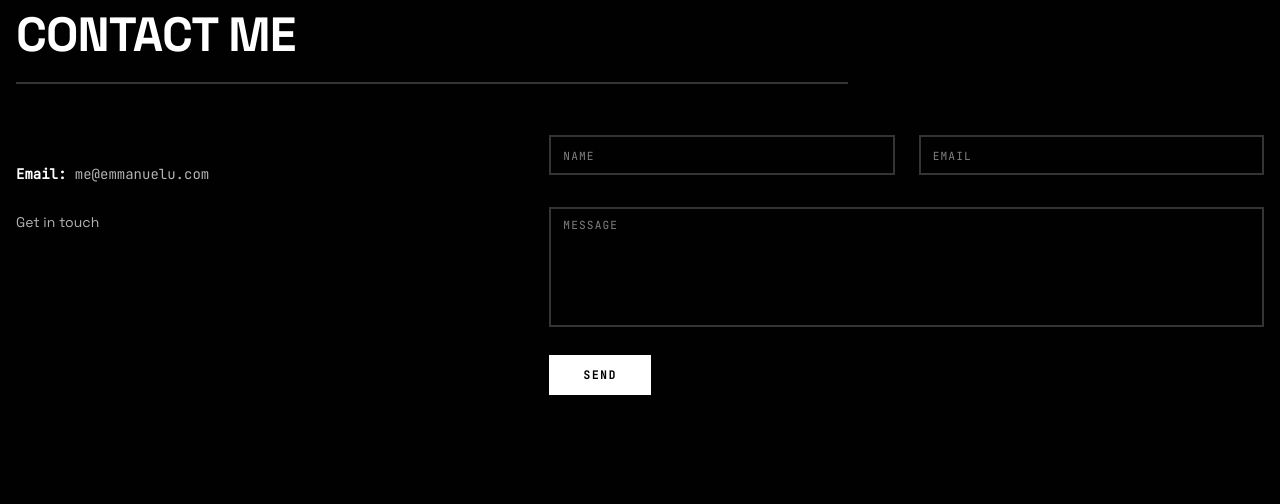
Contact form › shows success message after successful send
In the field with placeholder "NAME": (722, 155) left=549, top=135, right=895, bottom=175, type "John"
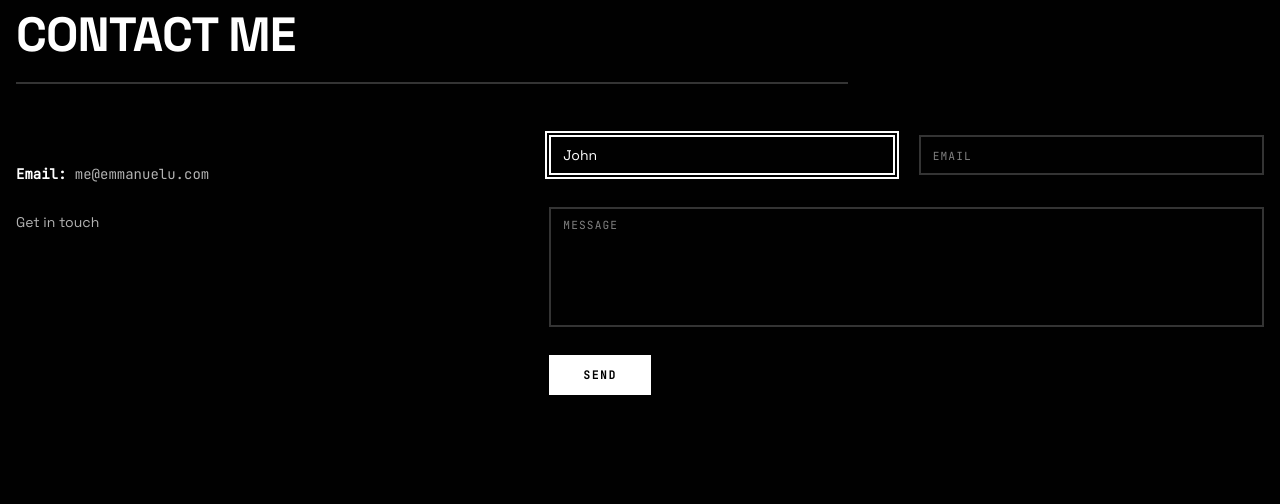
In the field with placeholder "EMAIL": (1091, 155) left=919, top=135, right=1264, bottom=175, type "john@test.com"
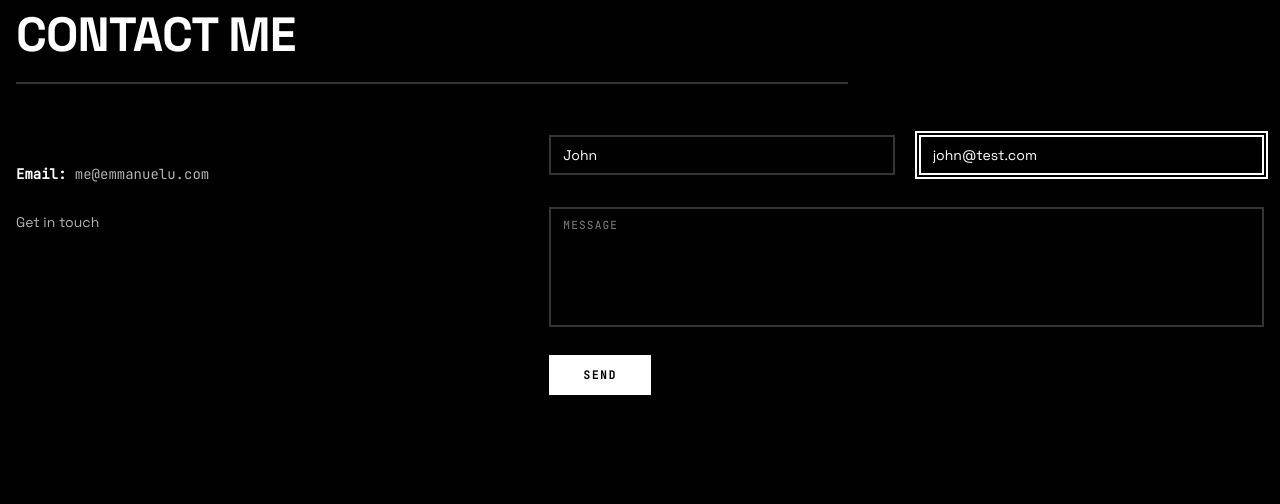
In the text box with placeholder "MESSAGE": (907, 267) left=549, top=207, right=1264, bottom=327, type "Hello!"
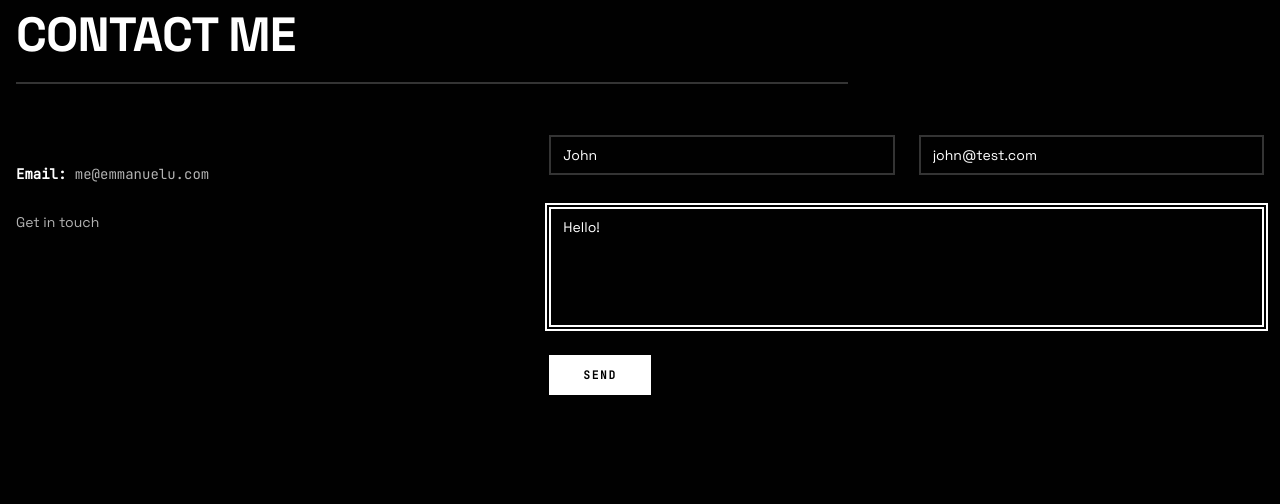
Click the button "Send": (600, 375) left=549, top=355, right=651, bottom=395
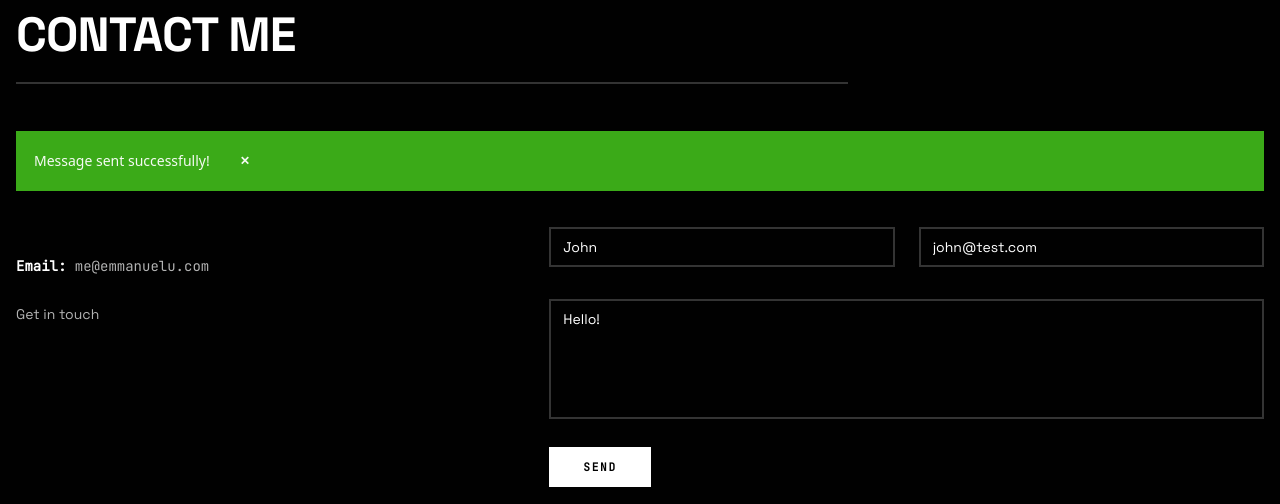
Now the message shows "Message sent successfully", box left=34, top=151, right=210, bottom=170
